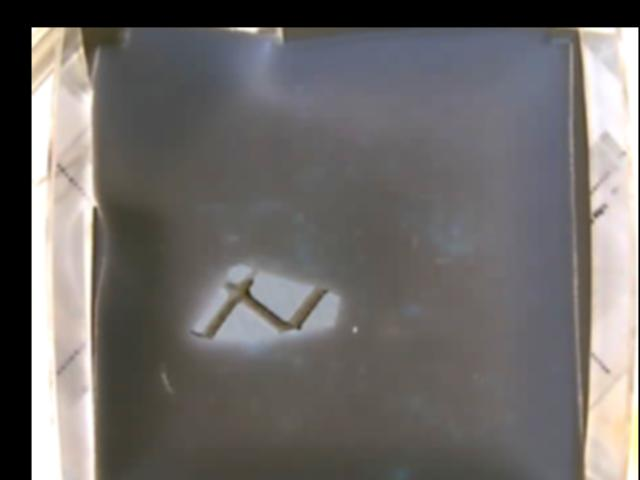China: (190, 263, 340, 346)
